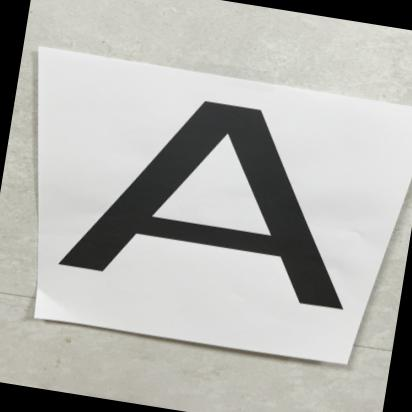seat: (34, 69, 386, 323)
